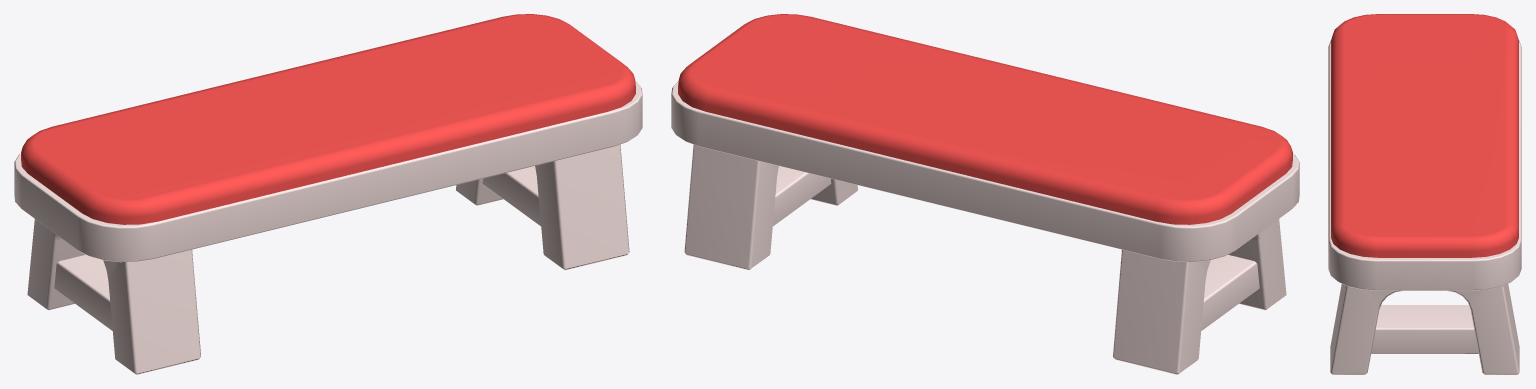
The model's file is Town_11_Bench_1.glb.
3 renders of one model, left to right at view 1: azimuth 30°, elevation 25°; view 2: azimuth 150°, elevation 25°; view 3: azimuth 270°, elevation 25°, orthographic. The views are drawn at different scales.
Parts seen in each view (by area): view 1: Town_11_Bench_1; view 2: Town_11_Bench_1; view 3: Town_11_Bench_1.
Boxes of the visible parts, x1,y1,x2,y2 form: Town_11_Bench_1: [14, 14, 642, 374]; Town_11_Bench_1: [671, 14, 1299, 374]; Town_11_Bench_1: [1328, 14, 1521, 374].
Size of the model in its own units: 1.71 by 0.4925 by 0.591.
Materials: 1 (1 with a texture image).
